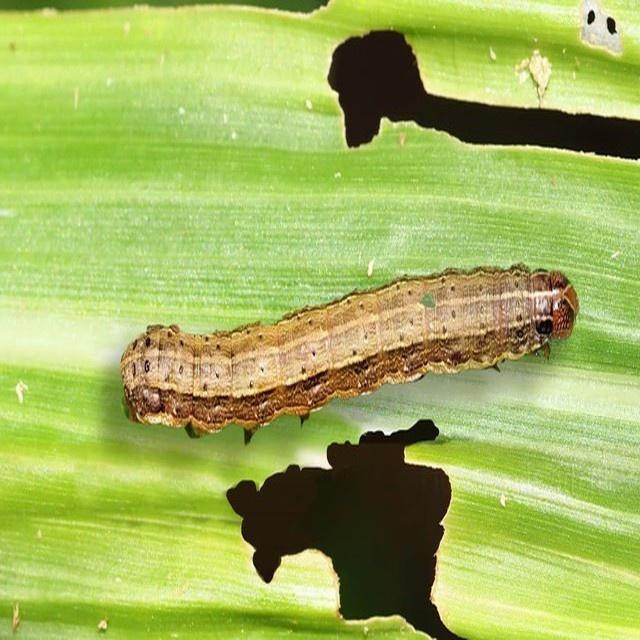Plaga: (123, 263, 587, 445)
